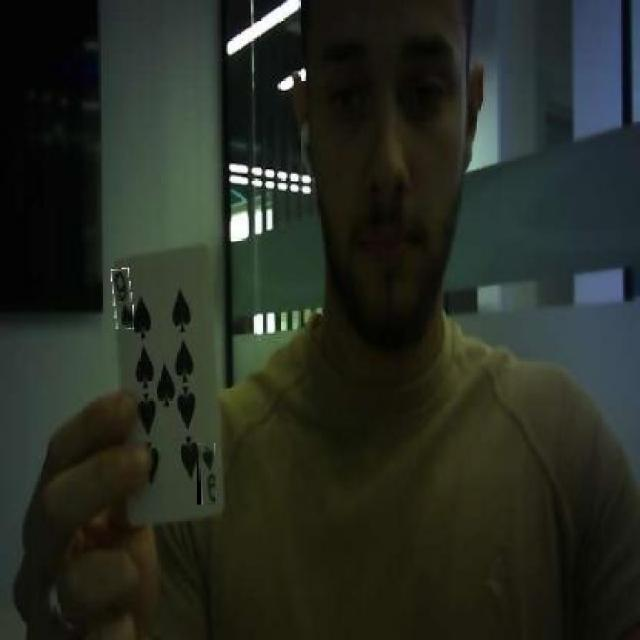9S: (112, 269, 132, 329), (197, 444, 215, 505)
